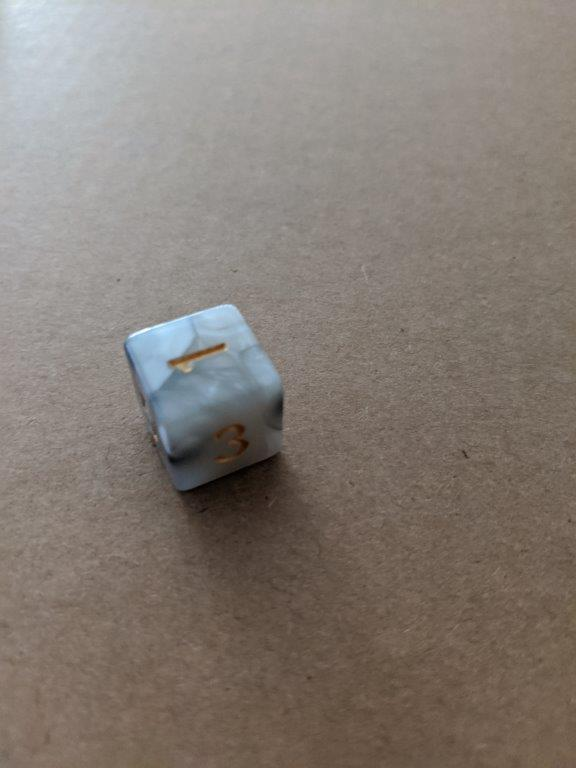d6-1: (124, 302, 287, 491)
